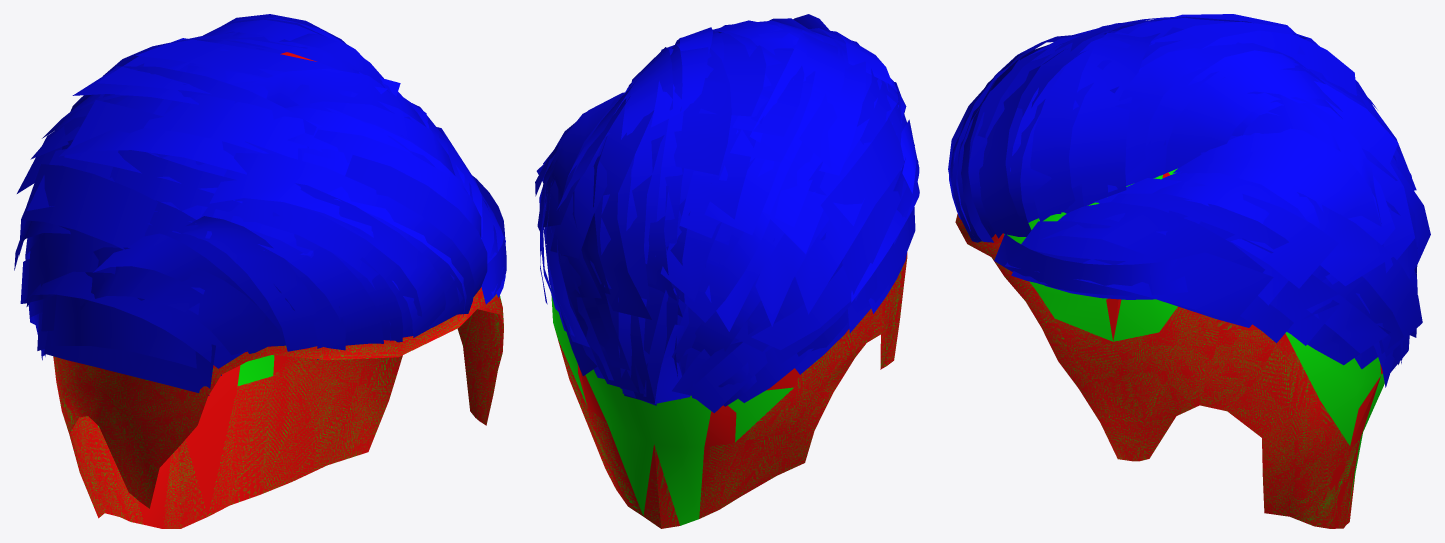
Rendered from hair_011.obj.
3 views of the same model, side by side, from view 1: azimuth 30°, elevation 25°; view 2: azimuth 150°, elevation 25°; view 3: azimuth 270°, elevation 25° (orthographic). The views are drawn at different scales.
Bounding box in the file's own units: 17.88 × 22.6 × 20.38.
